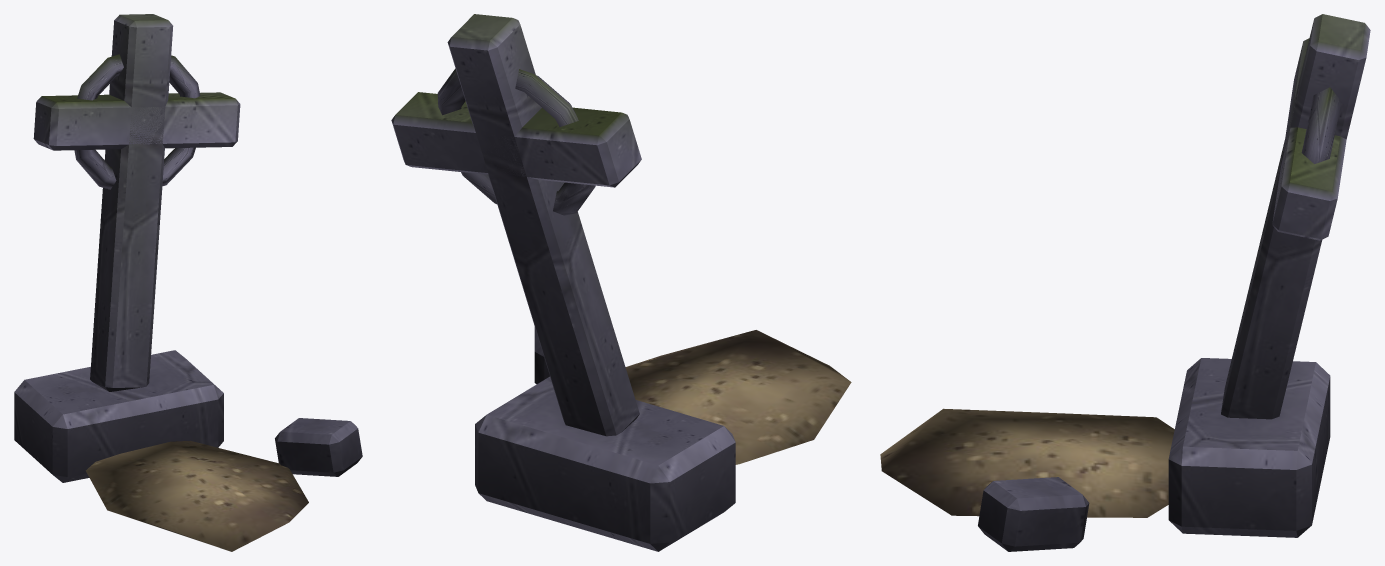
The model's file is dng_grave_b.glb.
The picture shows the model from 3 angles, left to right: view 1: azimuth 30°, elevation 25°; view 2: azimuth 150°, elevation 25°; view 3: azimuth 270°, elevation 25°; orthographic projection. The views are drawn at different scales.
Visible parts, largest first — view 1: dng_grave_b; view 2: dng_grave_b; view 3: dng_grave_b.
Part boxes in pixels (left/top/right/bottom): dng_grave_b: left=14, top=14, right=362, bottom=551; dng_grave_b: left=391, top=14, right=851, bottom=551; dng_grave_b: left=880, top=14, right=1370, bottom=551.
Bounding box in the file's own units: 0.7243 × 1.16 × 1.02.
2 materials, 2 textured.
